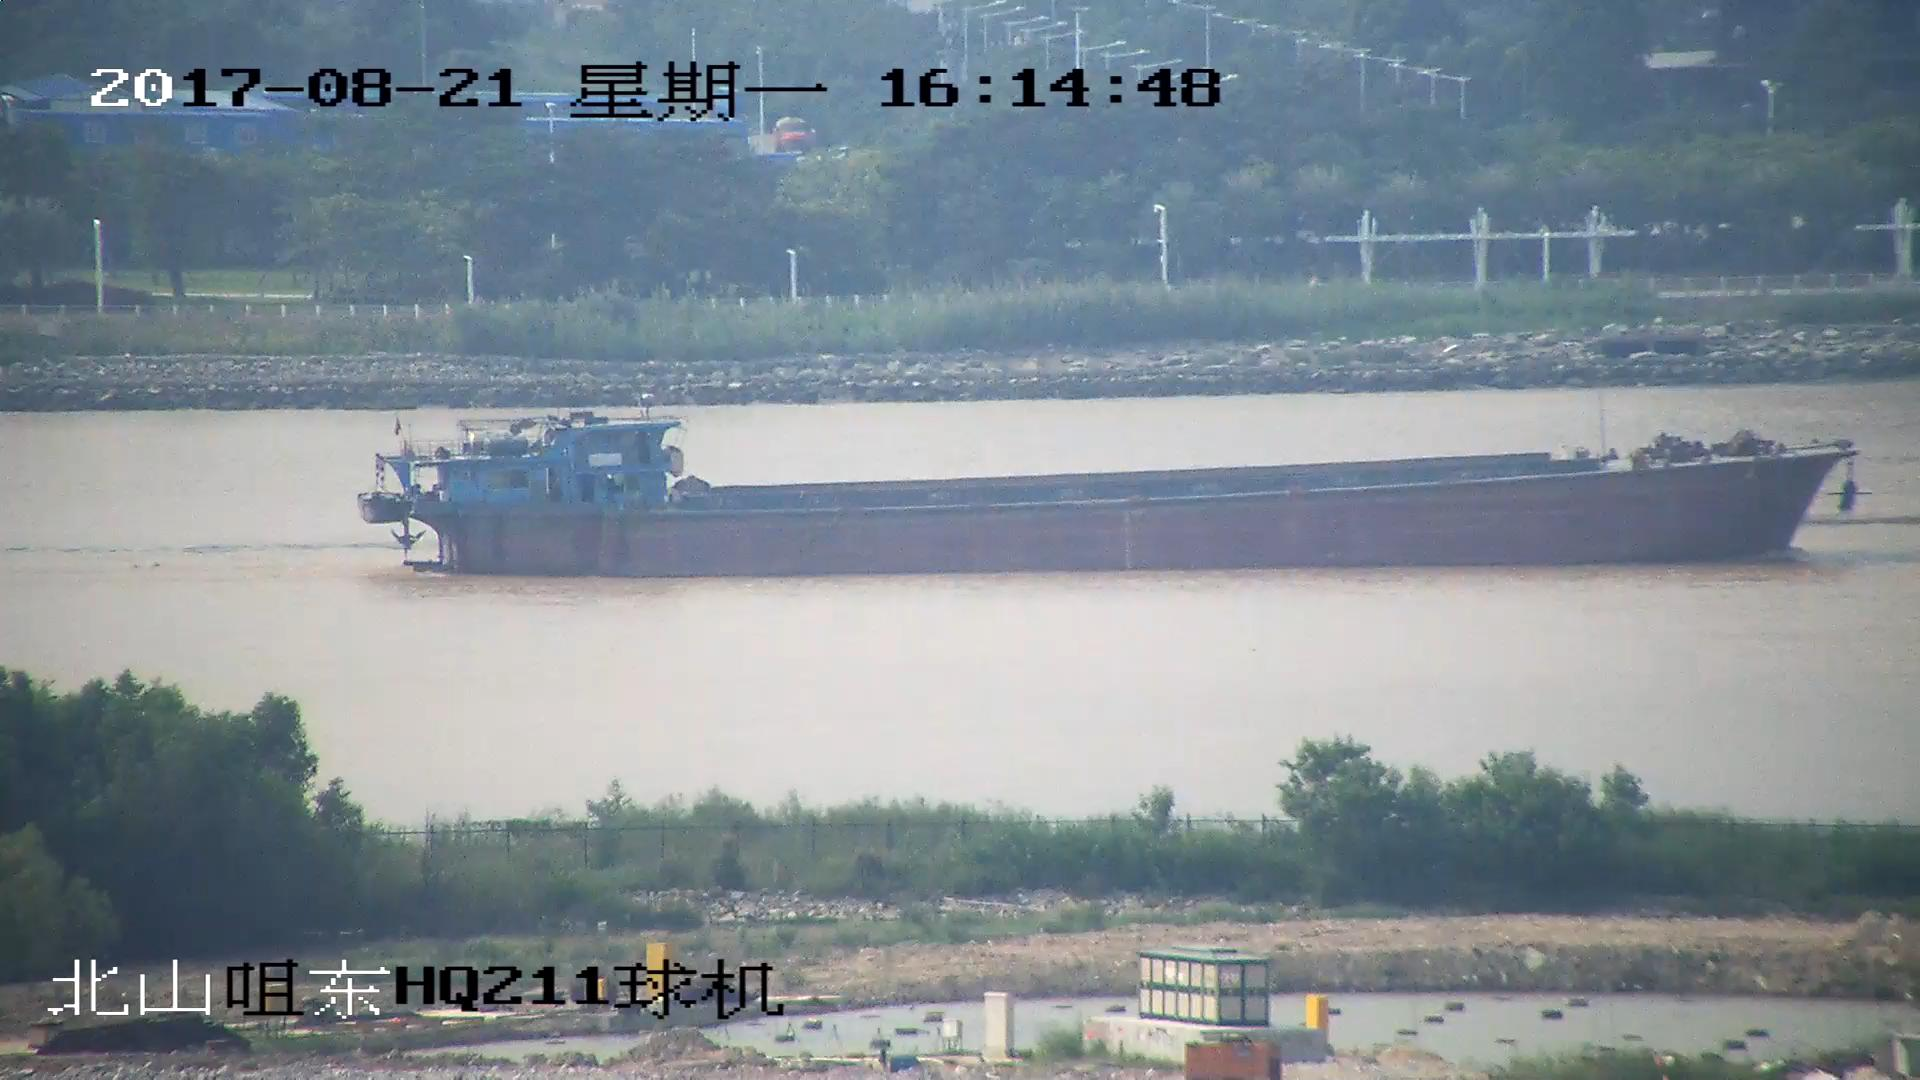bulk cargo carrier: (356, 409, 1869, 582)
